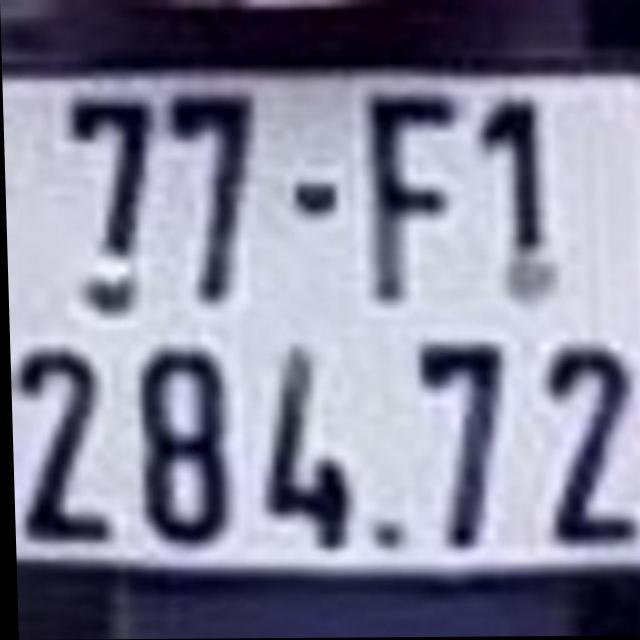1: (483, 91, 546, 313)
2: (541, 339, 636, 545), (16, 345, 107, 545)
4: (258, 346, 353, 558)
7: (166, 78, 262, 307), (416, 336, 505, 553), (63, 101, 152, 317)
8: (138, 347, 225, 542)
F: (371, 83, 457, 307)
